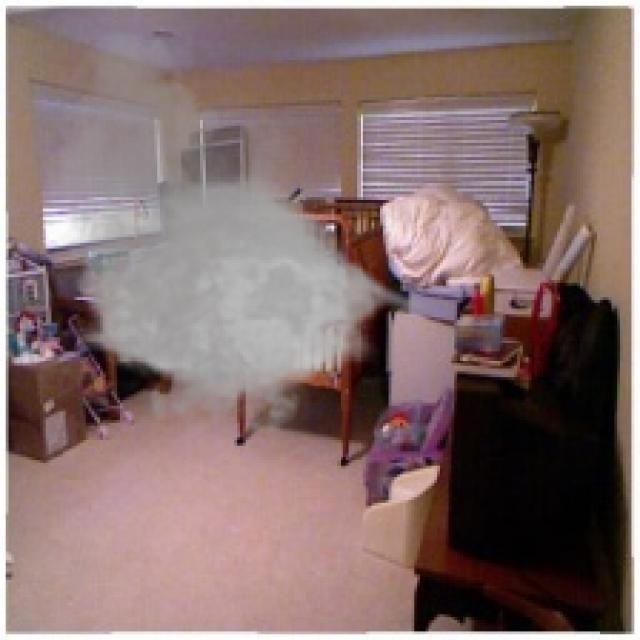Smoke: (34, 26, 437, 448)
